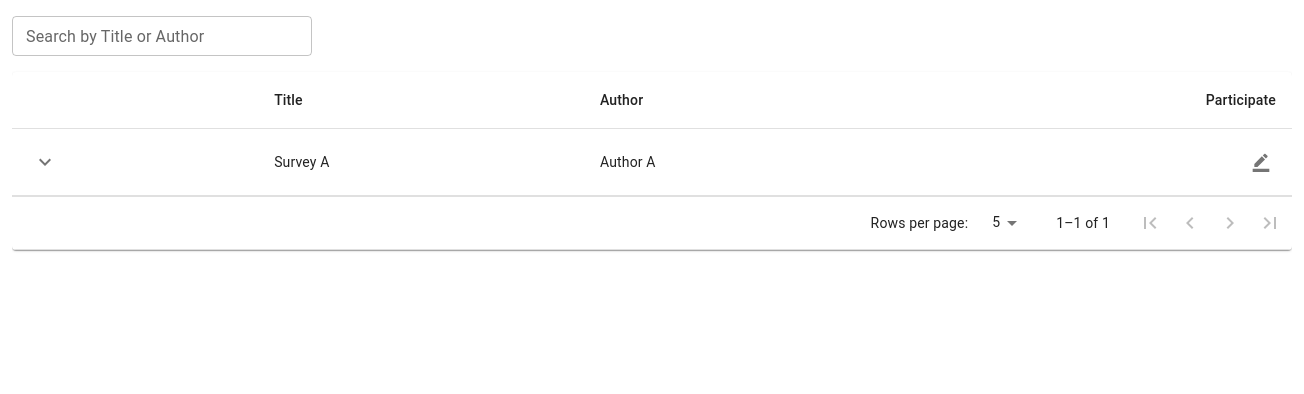
Public Surveys - exists › expands survey to show questions
Expected: the text "Survey A" is shown, x1=258 y1=128 x2=584 y2=196
Click the button named "expand row".
click(45, 162)  # box x1=28 y1=145 x2=62 y2=179
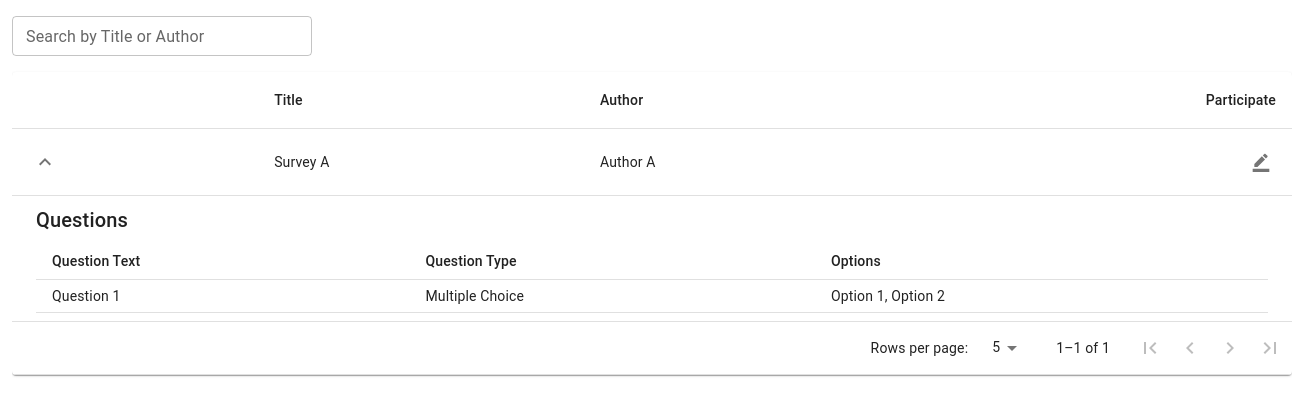
Expected: the text "Questions" is shown, x1=36 y1=208 x2=128 y2=232
